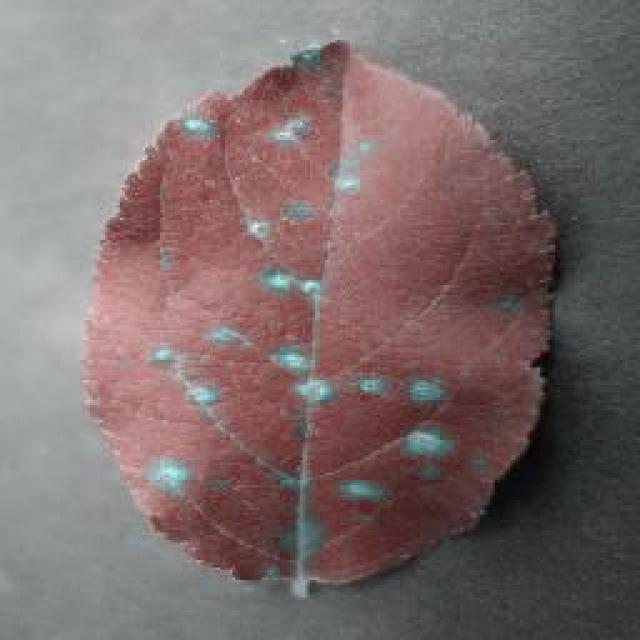apple scab disease: (78, 38, 562, 592)
